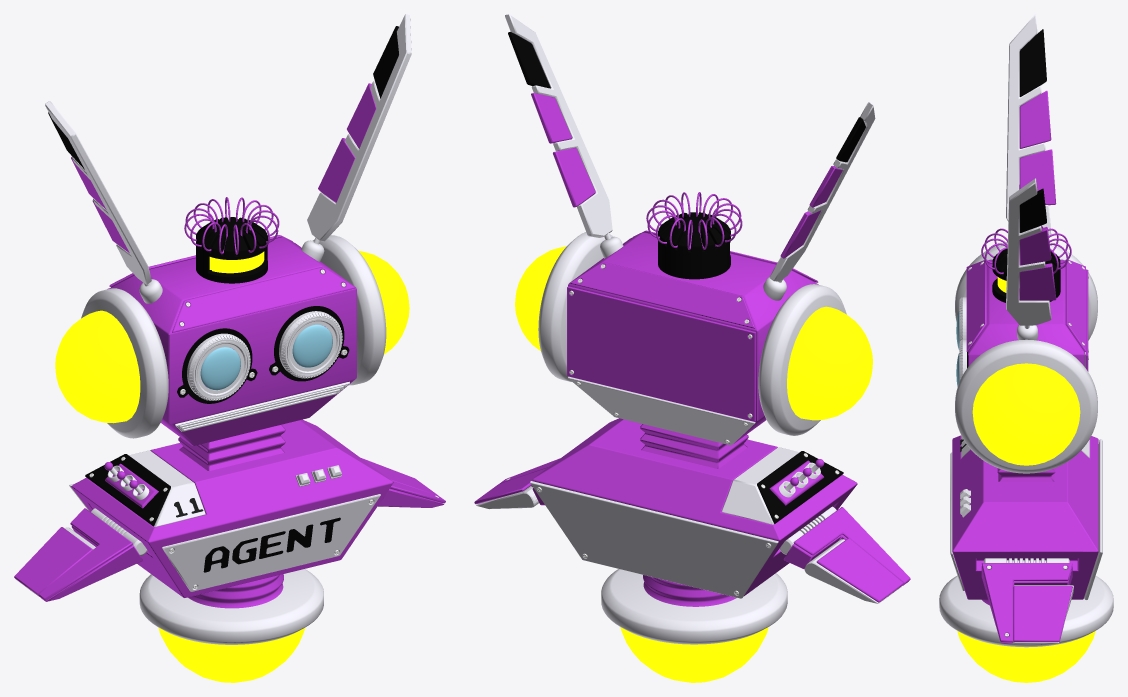
Rendered from bee_bot3_purple.glb.
3 views of the same model, side by side, from view 1: azimuth 30°, elevation 25°; view 2: azimuth 150°, elevation 25°; view 3: azimuth 270°, elevation 25° (orthographic). The views are drawn at different scales.
Visible parts, largest first — view 1: Cube.003; view 2: Cube.003; view 3: Cube.003.
Part boxes in pixels (x1,y1,x2,y2): Cube.003: (14, 14, 445, 682); Cube.003: (474, 14, 910, 682); Cube.003: (939, 14, 1113, 682).
Bounding box in the file's own units: 0.6986 × 1.02 × 0.278.
